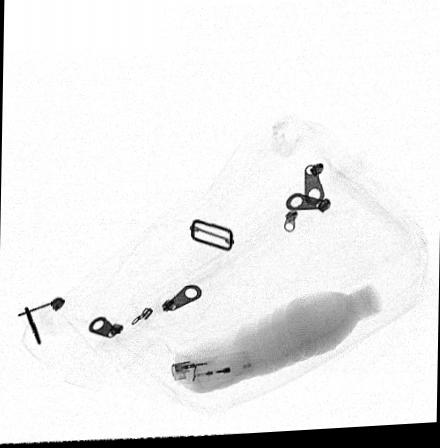Lighter: (170, 354, 252, 386)
